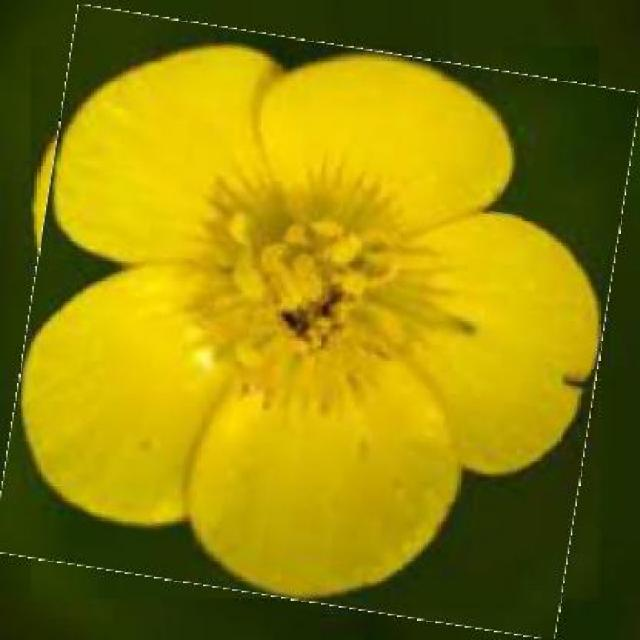Flower: (12, 25, 619, 621)
